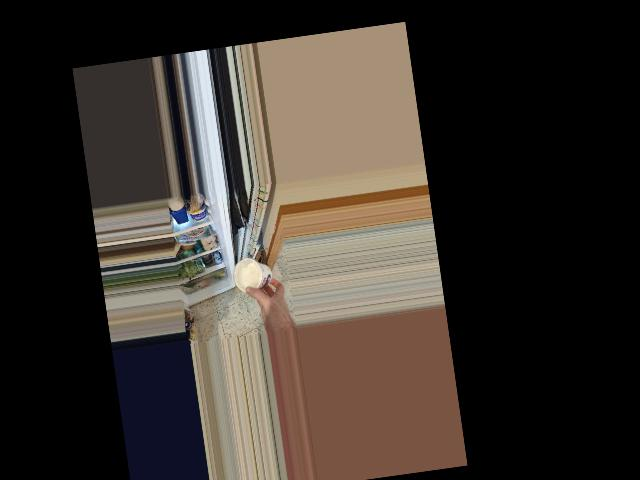cotage: (233, 255, 273, 292)
